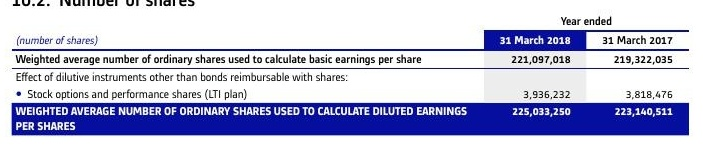table: (0, 0, 703, 148)
